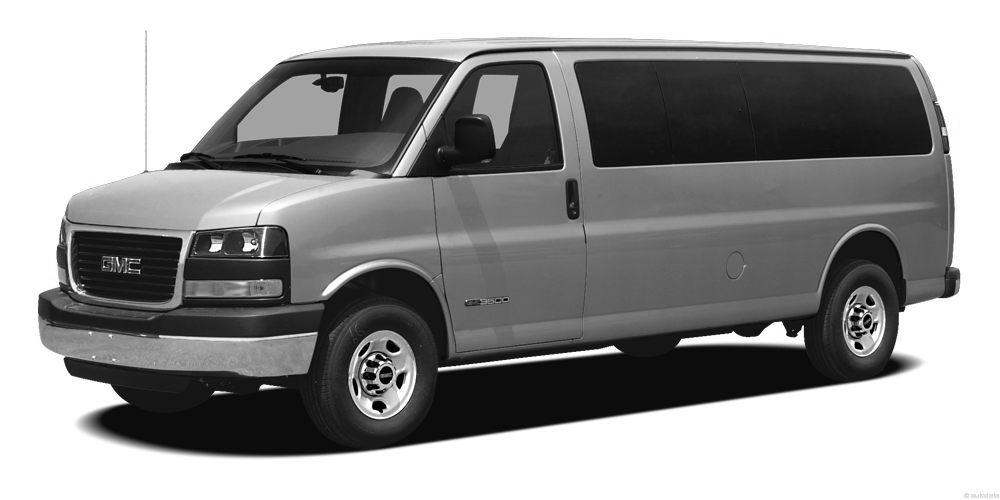car: (36, 47, 964, 444)
